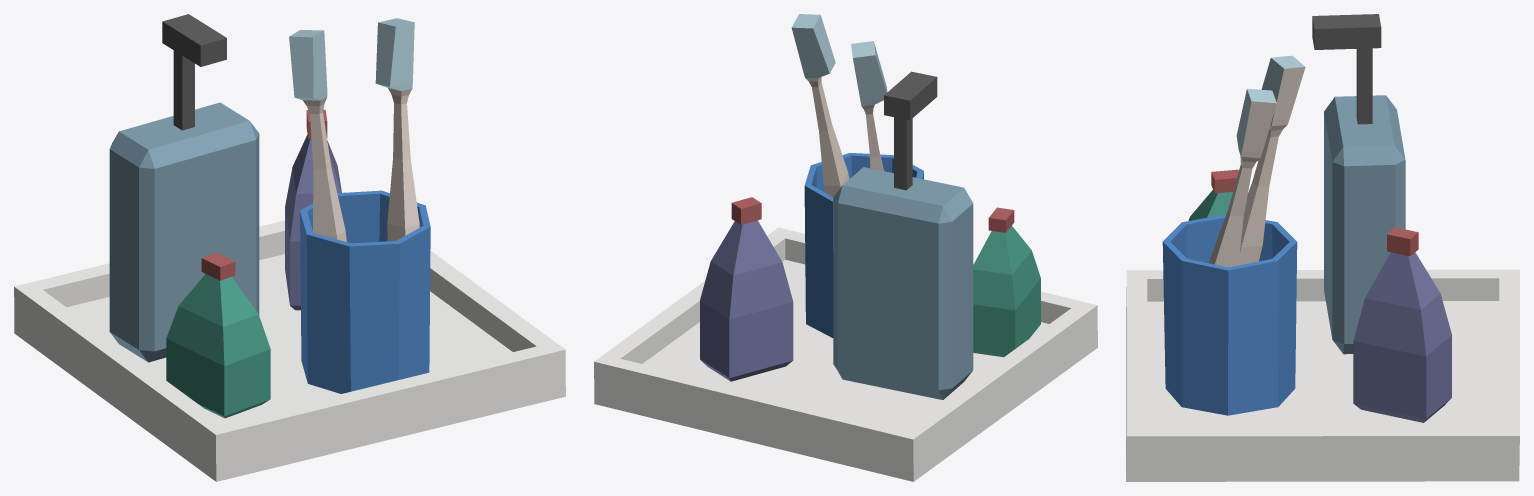
The model's file is Bathroom_set.fbx.
3 views of the same model, side by side, from view 1: azimuth 30°, elevation 25°; view 2: azimuth 150°, elevation 25°; view 3: azimuth 270°, elevation 25° (orthographic). The views are drawn at different scales.
Parts seen in each view (by area): view 1: Bathroom_set; view 2: Bathroom_set; view 3: Bathroom_set.
Part boxes in pixels (x1=…): Bathroom_set: x1=14, y1=14, x2=565, y2=481; Bathroom_set: x1=594, y1=14, x2=1097, y2=481; Bathroom_set: x1=1126, y1=14, x2=1519, y2=481.
Bounding box in the file's own units: 25.81 × 25.86 × 24.76.
